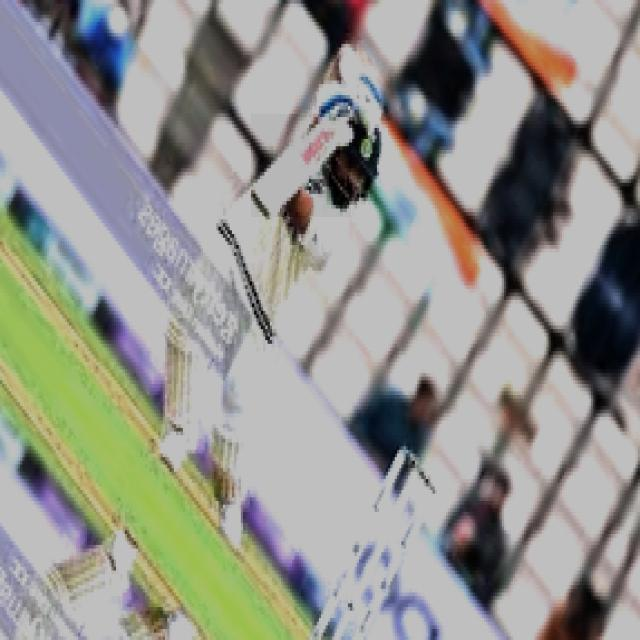bat: (246, 110, 354, 220)
toe: (249, 190, 272, 217)
